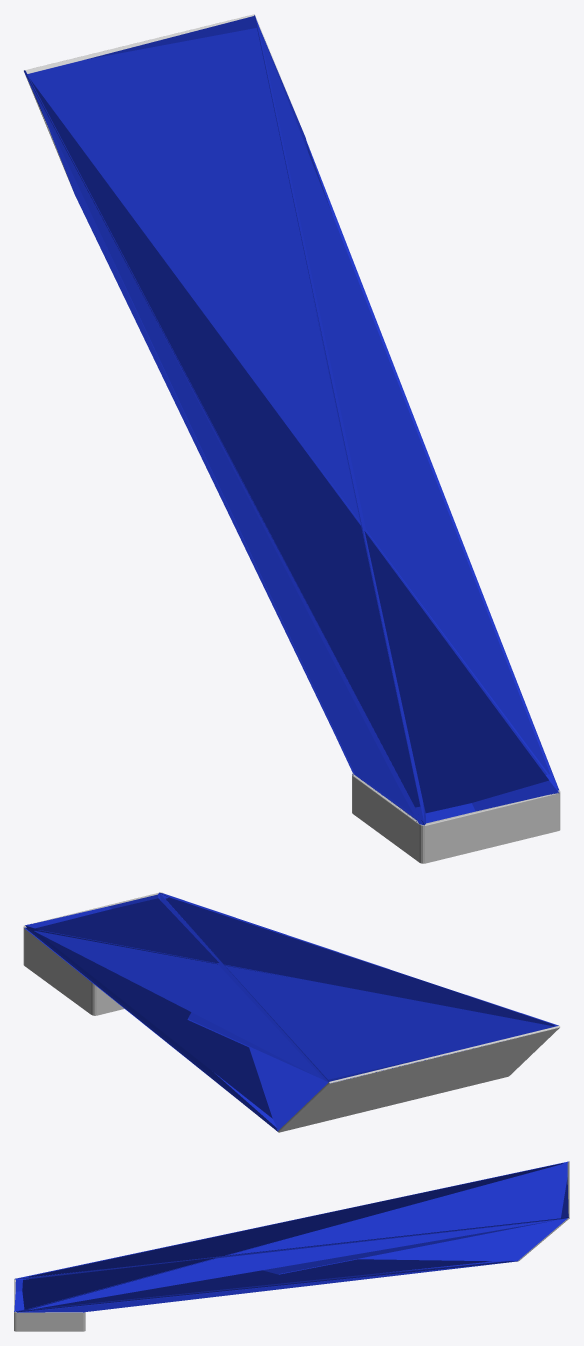
File: luggageXL.obj
The picture shows the model from 3 angles, top to bottom: view 1: azimuth 30°, elevation 25°; view 2: azimuth 210°, elevation 25°; view 3: azimuth 270°, elevation 25°; orthographic projection. The views are drawn at different scales.
Parts seen in each view (by area): view 1: TopLuggageXL; view 2: TopLuggageXL; view 3: TopLuggageXL.
Part boxes in pixels (x1,y1,x2,y2): TopLuggageXL: (24, 14, 560, 863); TopLuggageXL: (23, 892, 560, 1132); TopLuggageXL: (14, 1161, 569, 1331).
Size of the model in its own units: 5.93 by 5.09 by 14.7.
